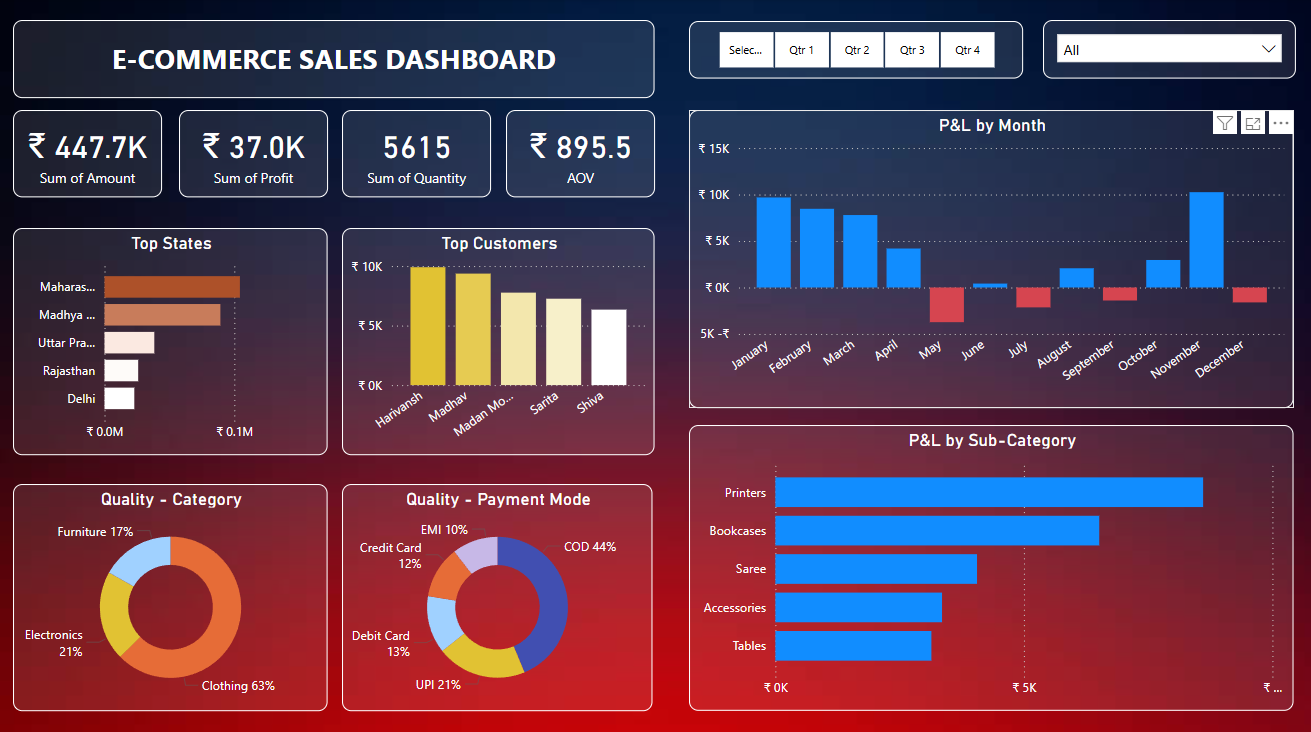

The dashboard page shown, as its layout file describes it:
{"tool":"powerbi","page":{"name":"Page 1","canvas":[1280,720],"ordinal":0},"visuals":[{"type":"card","fields":{"Values":["Details.Amount"]},"box":[15.6,108,144.9,84.6],"z":0},{"type":"textbox","box":[15.6,20.4,624.4,75.9],"z":1000},{"type":"columnChart","title":"P&L by Month","fields":{"Category":["Orders.Order Date.Variation.Date Hierarchy.Month"],"Y":["Details.Profit"]},"box":[673.1,108,588.4,289.8],"z":2000},{"type":"donutChart","title":"Quality - Category","fields":{"Category":["Details.Category"],"Y":["Details.Quantity"]},"box":[15.6,471.7,306.4,220.8],"z":3000},{"type":"donutChart","title":"Quality - Payment Mode","fields":{"Category":["Details.PaymentMode"],"Y":["Details.Quantity"]},"box":[335.6,471.7,302.5,220.8],"z":4000},{"type":"card","fields":{"Values":["Details.Quantity"]},"box":[335.6,108,144.9,84.6],"z":5000},{"type":"card","fields":{"Values":["Details.Profit"]},"box":[177,108,144.9,84.6],"z":6000},{"type":"card","fields":{"Values":["Measure.AOV"]},"box":[495.1,108,144.9,84.6],"z":7000},{"type":"clusteredBarChart","title":"Top States","fields":{"Y":["Details.Amount"],"Category":["Orders.State"]},"box":[15.6,222.7,306.4,220.8],"z":8000},{"type":"columnChart","title":"Top Customers","fields":{"Category":["Orders.CustomerName"],"Y":["Details.Amount"]},"box":[335.6,222.7,304.4,220.8],"z":9000},{"type":"slicer","fields":{"Values":["Orders.Order Date.Variation.Date Hierarchy.Quarter"]},"box":[673.1,21.4,324.9,56.4],"z":10000},{"type":"slicer","fields":{"Values":["Orders.State"]},"box":[1017.4,20.4,246.1,57.4],"z":11000},{"type":"clusteredBarChart","title":"P&L by Sub-Category","fields":{"Y":["Details.Profit"],"Category":["Details.Sub-Category"]},"box":[673.1,414.3,588.4,278.2],"z":12000}]}

Visuals, with their boxes in screenshot pixels (x1, y1, x2, y2), scaled from the page's 1280x720 canvas onto the 1311x732 screenshot:
card - Details.Amount: x1=16 y1=110 x2=164 y2=196
textbox: x1=16 y1=21 x2=656 y2=98
"P&L by Month" columnChart: x1=689 y1=110 x2=1292 y2=404
"Quality - Category" donutChart: x1=16 y1=480 x2=330 y2=704
"Quality - Payment Mode" donutChart: x1=344 y1=480 x2=654 y2=704
card - Details.Quantity: x1=344 y1=110 x2=492 y2=196
card - Details.Profit: x1=181 y1=110 x2=330 y2=196
card - Measure.AOV: x1=507 y1=110 x2=656 y2=196
"Top States" clusteredBarChart: x1=16 y1=226 x2=330 y2=451
"Top Customers" columnChart: x1=344 y1=226 x2=656 y2=451
slicer - Orders.Order Date.Variation.Date Hierarchy.Quarter: x1=689 y1=22 x2=1022 y2=79
slicer - Orders.State: x1=1042 y1=21 x2=1294 y2=79
"P&L by Sub-Category" clusteredBarChart: x1=689 y1=421 x2=1292 y2=704
